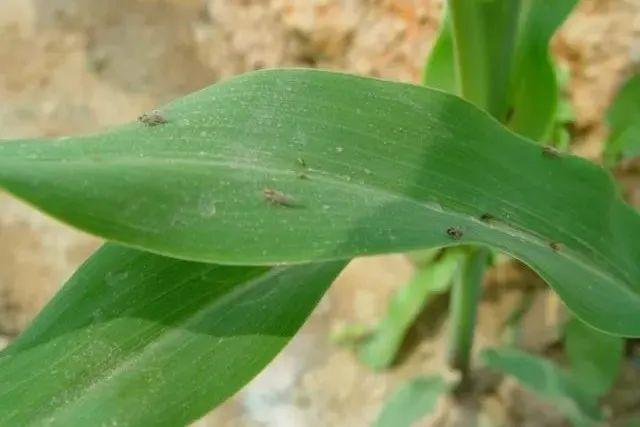Delphacidae: (260, 187, 295, 205), (136, 112, 167, 124)
